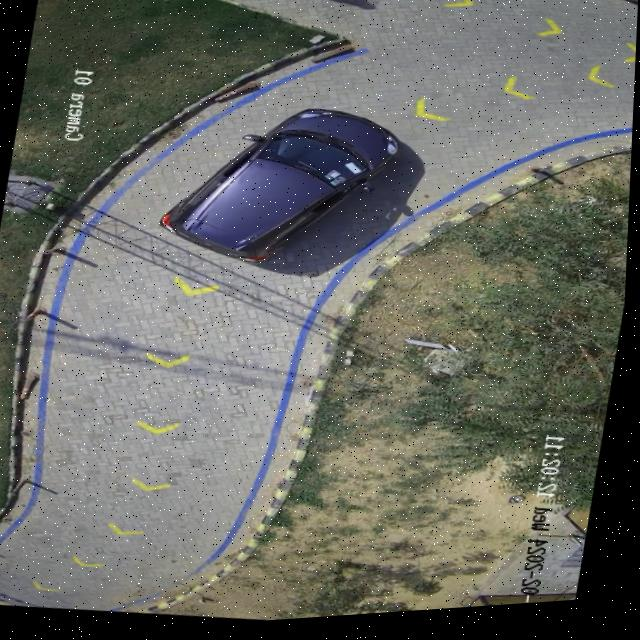car: (163, 114, 401, 265)
